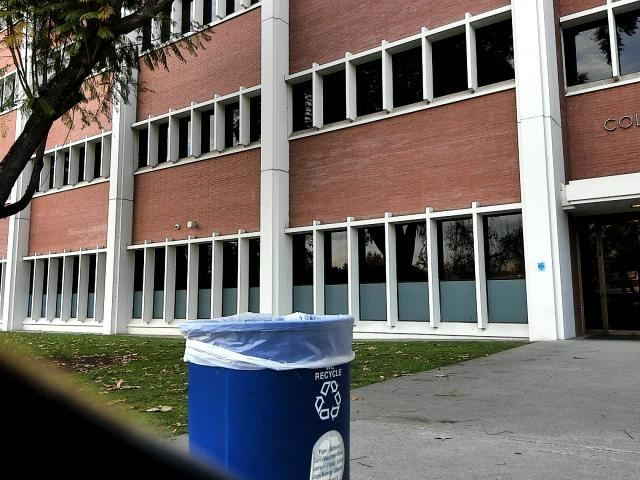trashcan_open: (179, 307, 351, 480)
